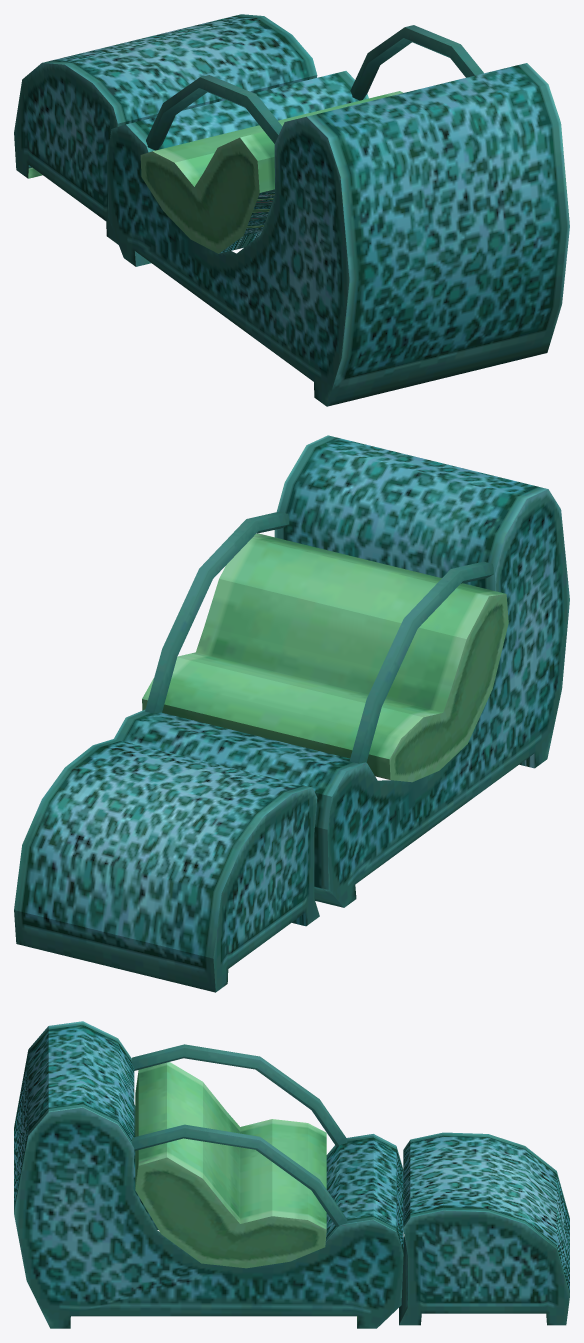
The model's file is furni_0200102_03.FBX.
3 views of the same model, one above another, from view 1: azimuth 30°, elevation 25°; view 2: azimuth 150°, elevation 25°; view 3: azimuth 270°, elevation 25° (orthographic). The views are drawn at different scales.
Parts seen in each view (by area): view 1: furni_0200102_03; view 2: furni_0200102_03; view 3: furni_0200102_03.
Part boxes in pixels (box(x1,y1,x2,y2)): furni_0200102_03: box(14, 14, 569, 406); furni_0200102_03: box(14, 435, 569, 992); furni_0200102_03: box(14, 1021, 569, 1328).
Bounding box in the file's own units: 79.85 × 85.06 × 193.
